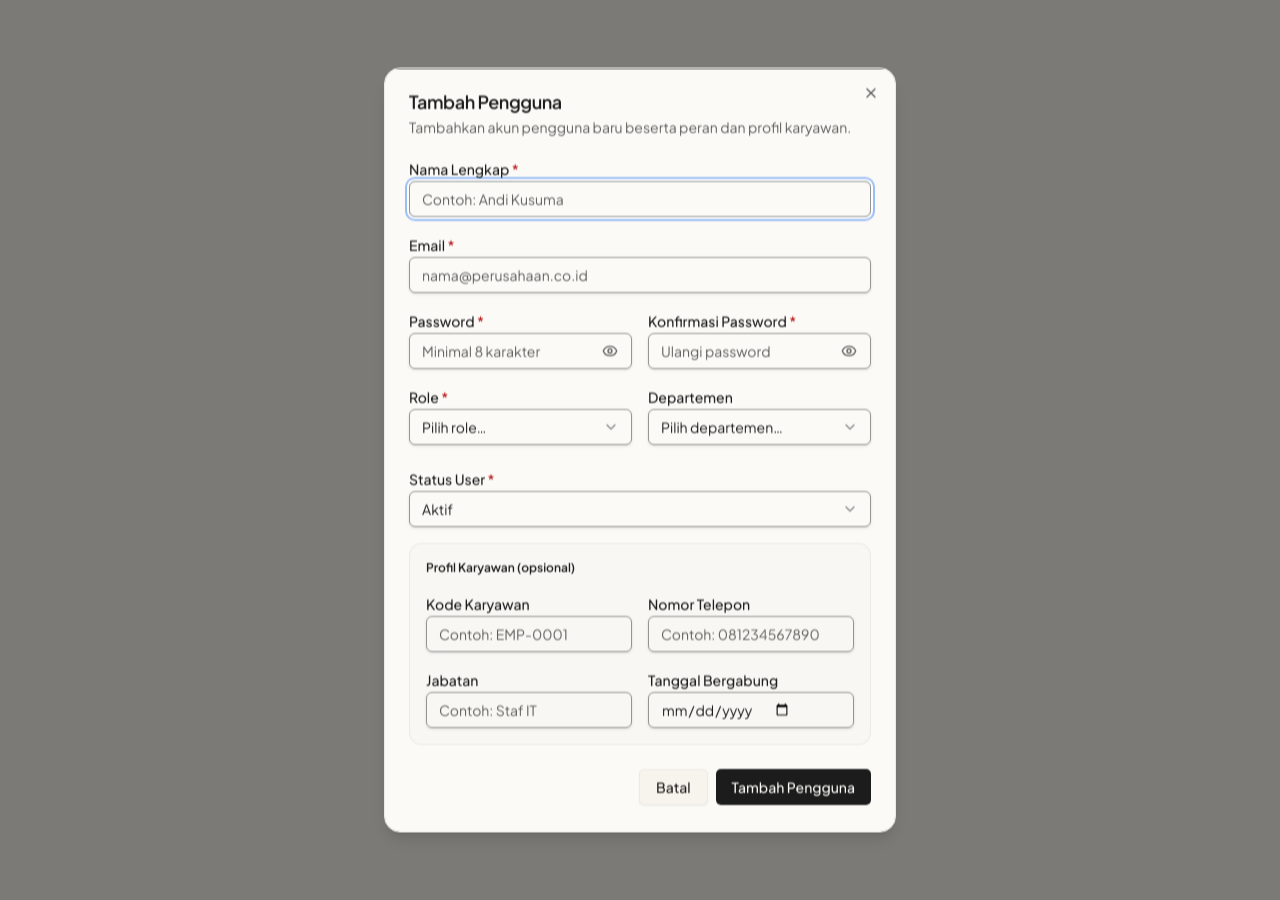
Test: UserFormDialog › create mode with mismatched password confirmation shows Indonesian validation error and does not submit
Type "Budi Santoso" into the field labelled "Nama Lengkap *".
click(640, 198); type("Budi Santoso")  # box [409,180,871,216]
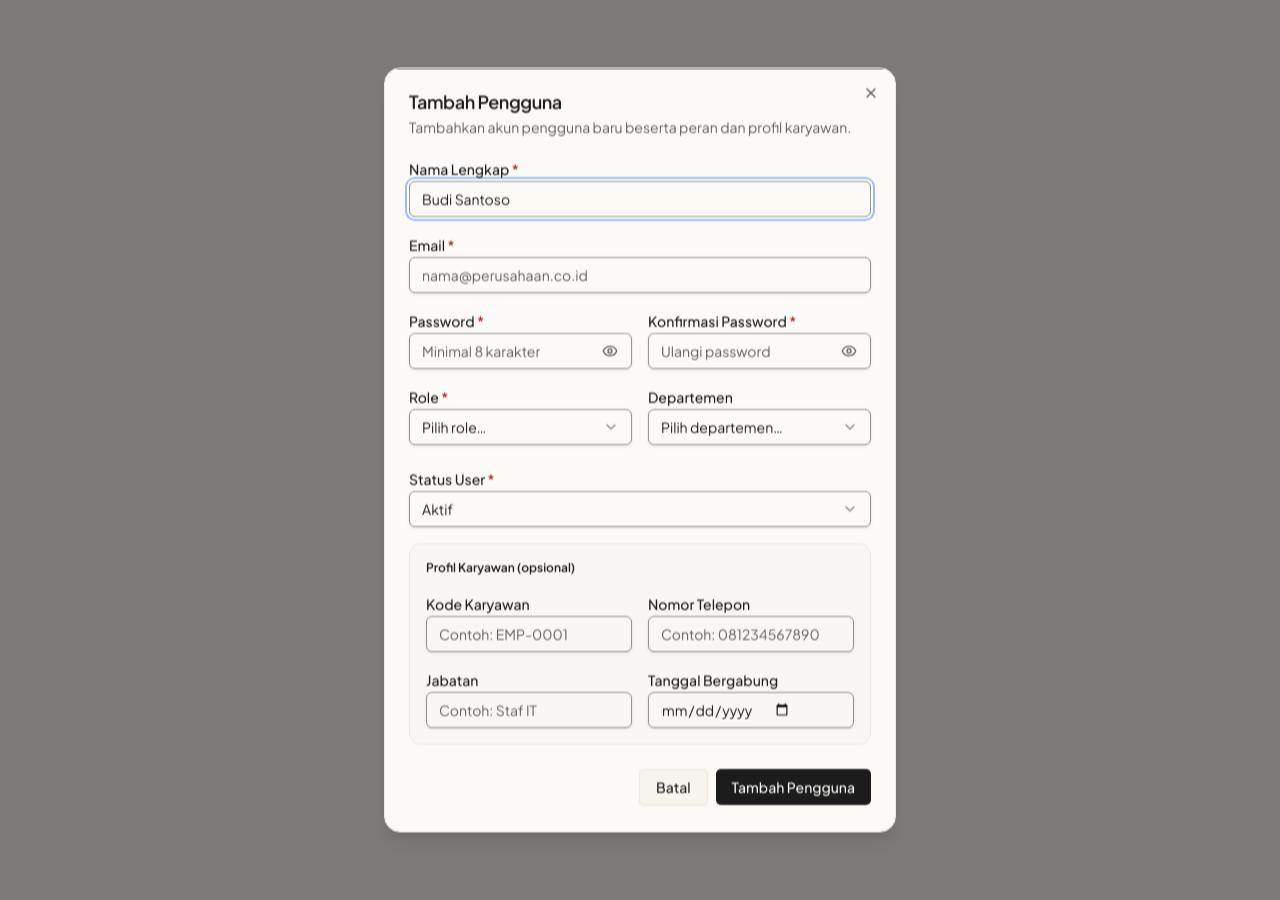
Type "budi@jarvis.test" into the field labelled "Email *".
click(640, 274); type("budi@jarvis.test")  # box [409,256,871,292]
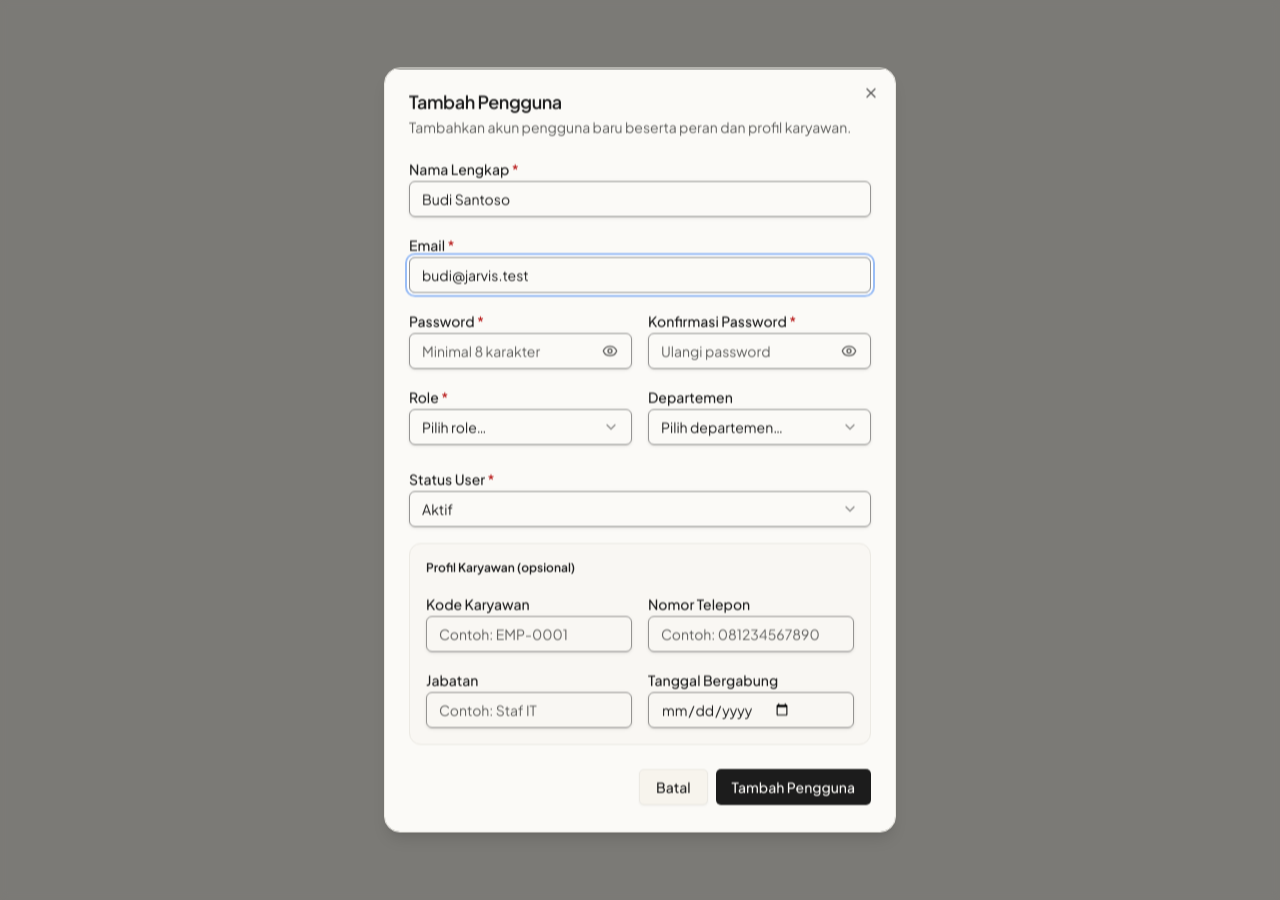
Type "rahasia123" into the password field labelled "Password *".
click(520, 350); type("rahasia123")  # box [409,332,632,368]
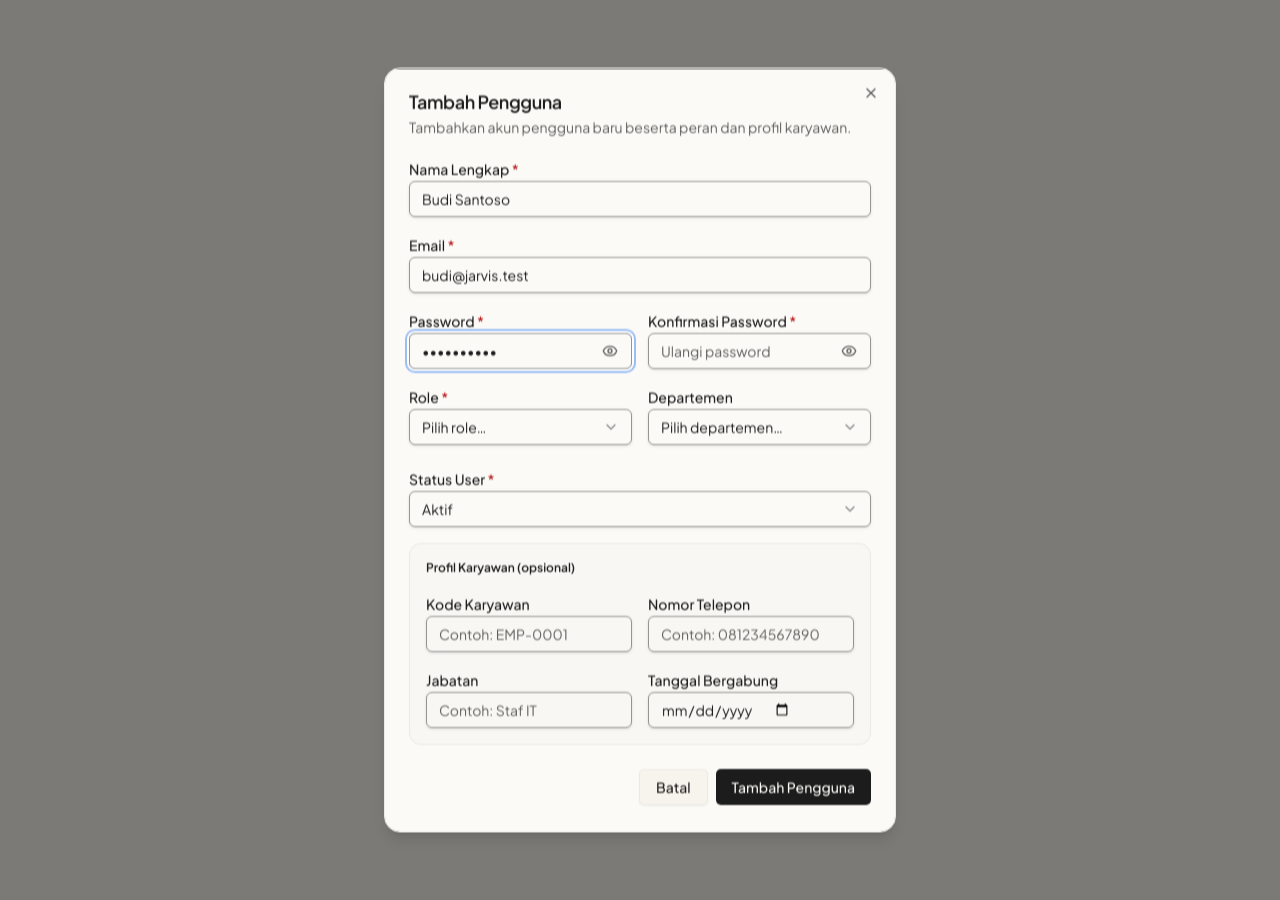
Type "rahasia456" into the password field labelled "Konfirmasi Password *".
click(760, 350); type("rahasia456")  # box [648,332,871,368]
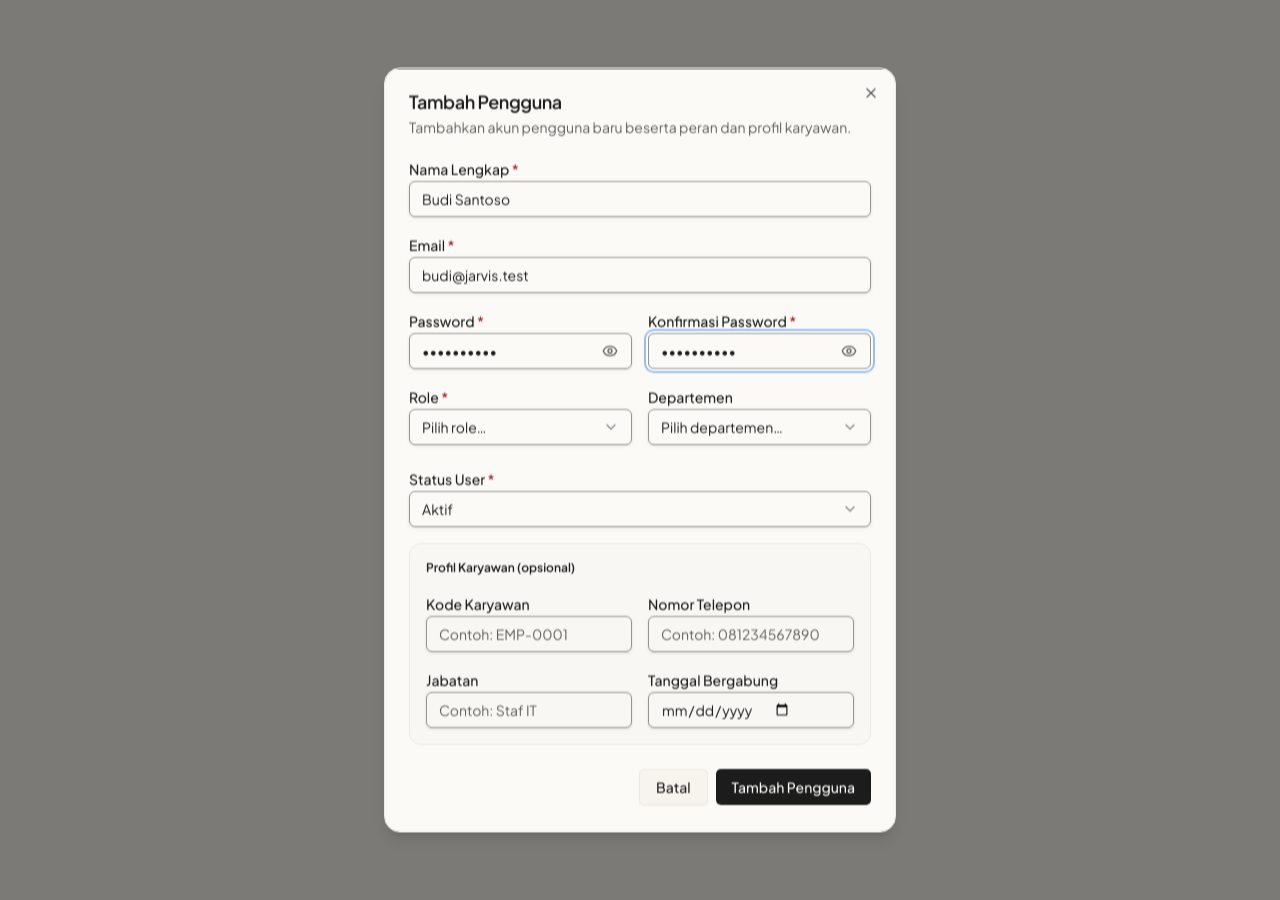
Click the button "Tambah Pengguna".
click(793, 786)  # box [716,768,871,804]
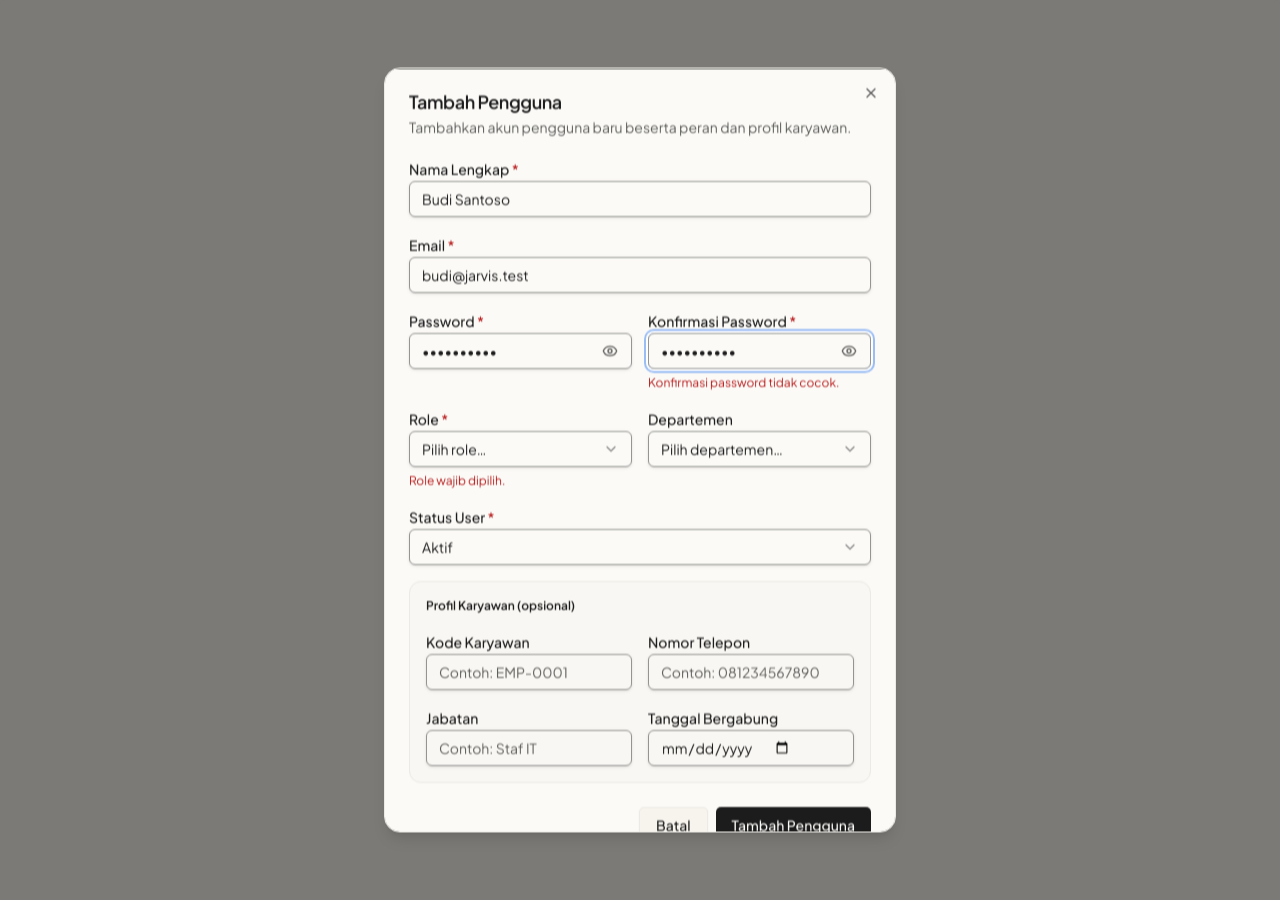
Now the text "Konfirmasi password tidak cocok." is shown, box [648,374,871,390]
